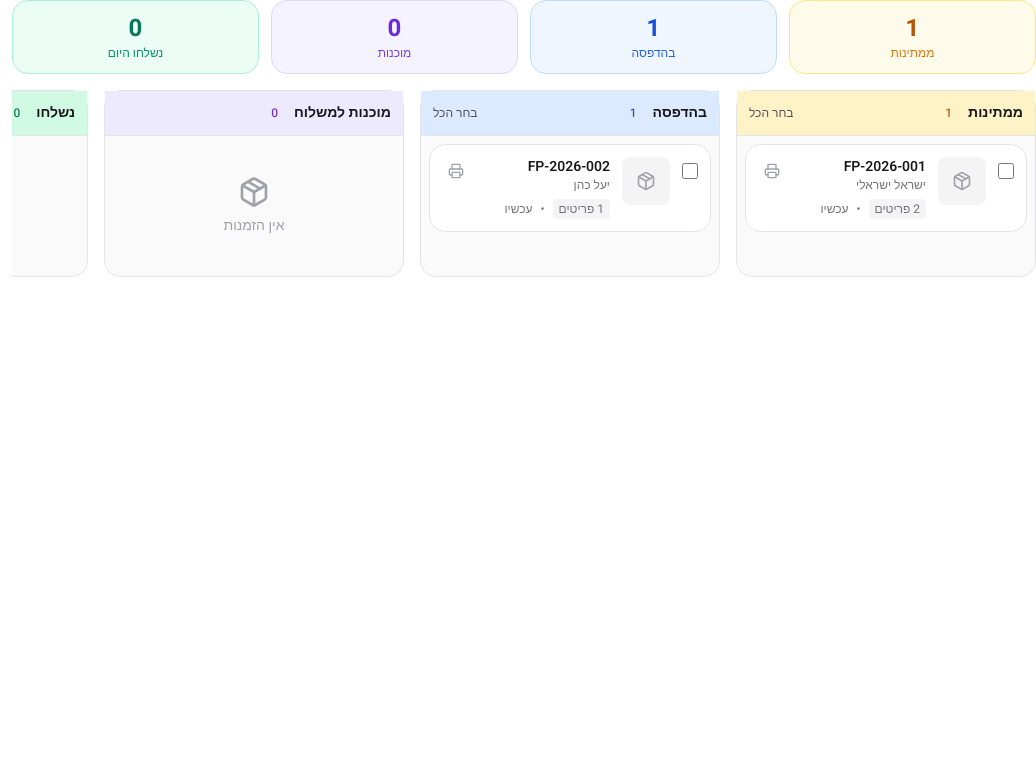
it: FulfillmentBoard › Selection › should clear selection when clear button clicked
// Select an order
Click the checkbox named "בחר הזמנה FP-2026-001" at (1006, 171), box [998, 163, 1014, 179]
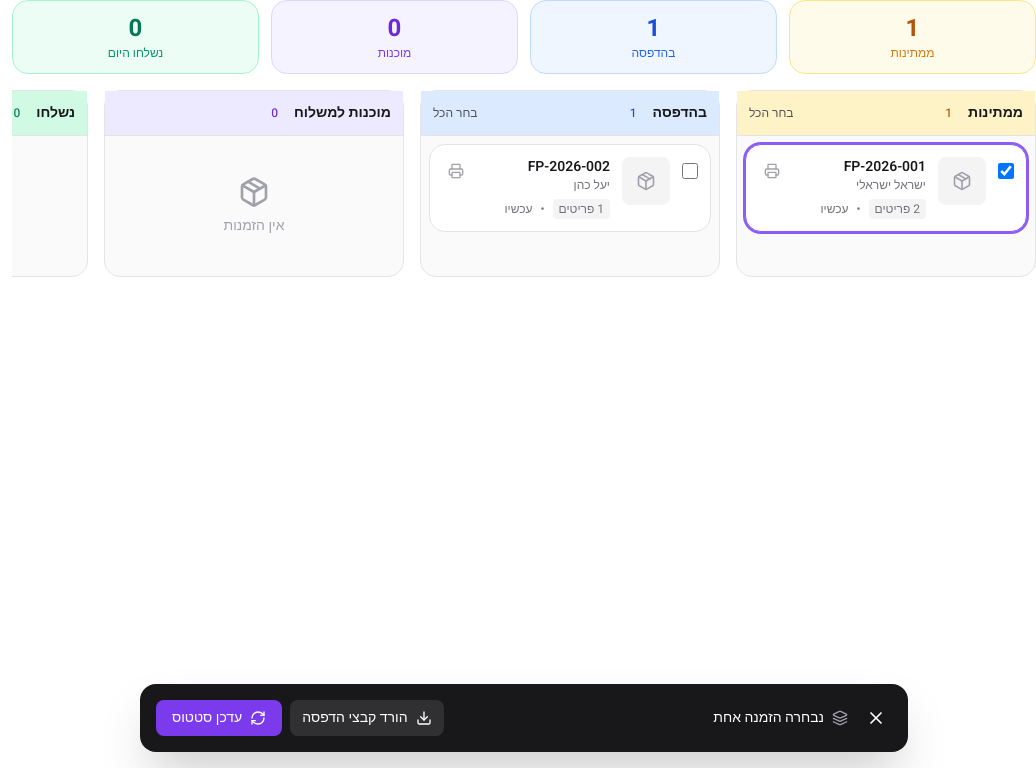
// Clear selection
Click the button with test id "clear-selection" at (876, 718), box [860, 702, 892, 734]
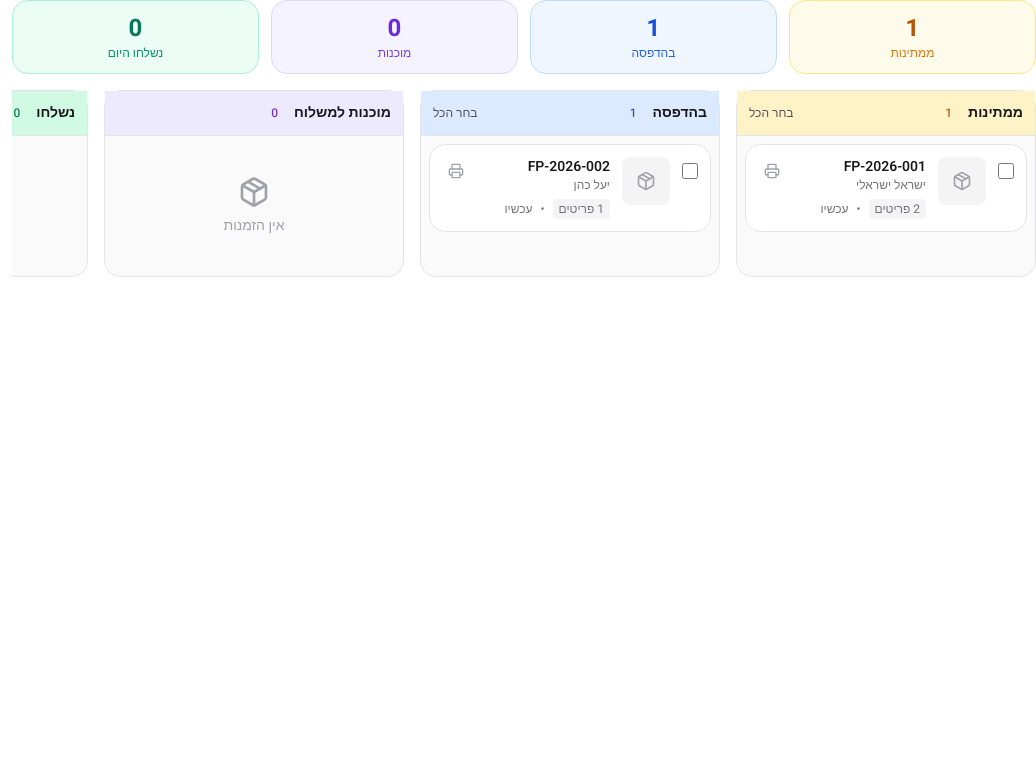
Result: the element with test id "bulk-toolbar" is gone
